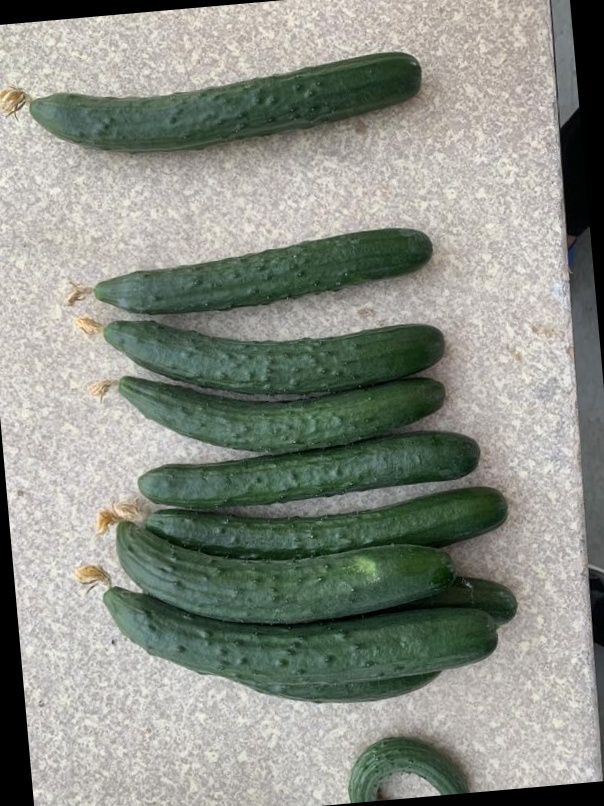mature: (26, 43, 419, 152), (109, 518, 462, 623), (88, 590, 499, 675), (89, 223, 434, 312), (138, 479, 509, 554), (126, 432, 486, 509), (110, 370, 454, 450), (101, 314, 444, 389)
